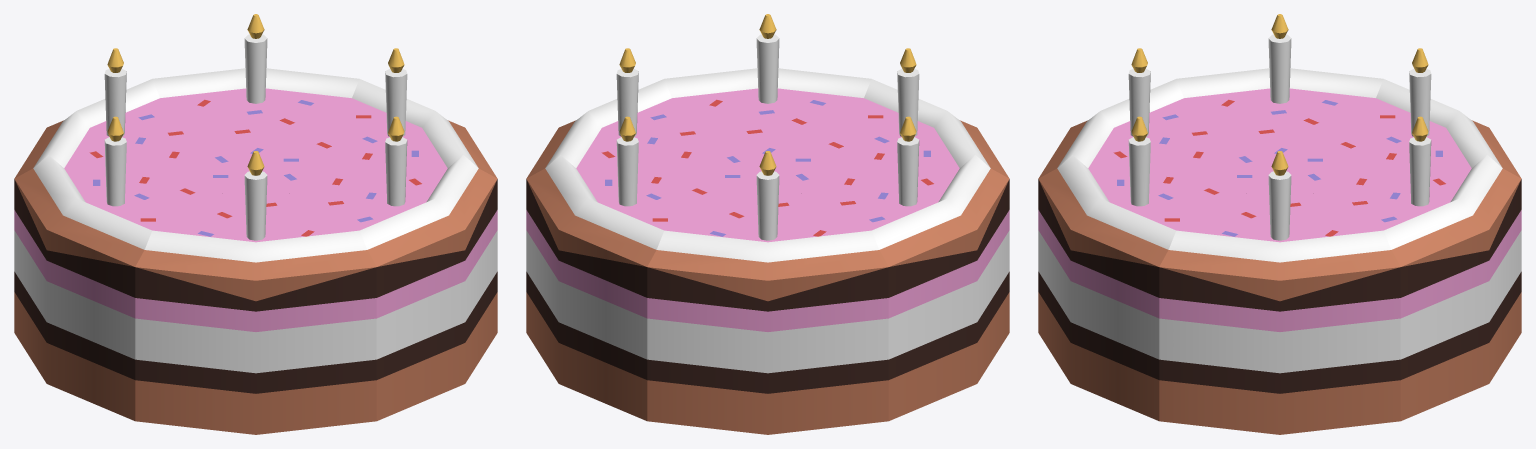
File: cakeBirthday.fbx
3 views of the same model, side by side, from view 1: azimuth 30°, elevation 25°; view 2: azimuth 150°, elevation 25°; view 3: azimuth 270°, elevation 25° (orthographic).
Parts seen in each view (by area): view 1: slice (×6); view 2: slice (×6); view 3: slice (×6).
Boxes of the visible parts, left/top/right/bottom form: slice (×6): left=14, top=14, right=497, bottom=434; slice (×6): left=526, top=14, right=1009, bottom=434; slice (×6): left=1038, top=14, right=1521, bottom=434.
Size of the model in its own units: 6.39 by 3.64 by 6.39.
